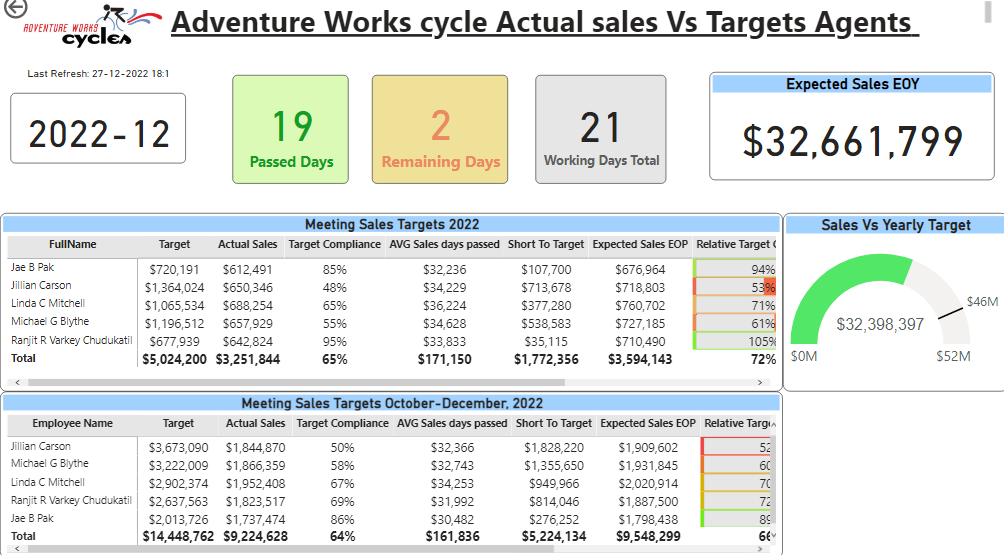

The dashboard page shown, as its layout file describes it:
{"tool":"powerbi","page":{"name":"P1","canvas":[1280,720],"ordinal":0},"visuals":[{"type":"gauge","title":"Sales Vs Yearly Target","fields":{"Y":["FactSalesVsTargets.Total_Actual_Net_Sales"],"MaxValue":["SalesVsTargets.Max_KPI_Sales_Target"],"TargetValue":["SalesVsTargets.Total_Sales_Target"]},"box":[994.3,281.9,285.7,226.7],"z":0},{"type":"card","fields":{"Values":["Dim_Date.PassedWorkingDays"]},"box":[295.5,107,147.3,138.1],"z":1000},{"type":"card","fields":{"Values":["Dim_Date.RemainingWorkingDays"]},"box":[472.7,107,172.7,138.1],"z":2000},{"type":"card","fields":{"Values":["Dim_Date.WorkingDaysCount"]},"box":[679.9,107,165.8,138.1],"z":3000},{"type":"pivotTable","title":"Meeting Sales Targets 2022","fields":{"Rows":["Employee.FullName"],"Values":["FactSalesVsTargets.Total_Sales_Target","FactSalesVsTargets.Total_Actual_Net_Sales","FactSalesVsTargets.Target_Compliance","FactSalesVsTargets.Avg_Sales_In_Slp_PWD","FactSalesVsTargets.Total_Short_To_Target","FactSalesVsTargets.Total_Expected_Sales_EOP","FactSalesVsTargets.Relative_Target_Compliance","FactSalesVsTargets.Required_Daily_Sales_For_Target"]},"box":[0,281.9,994.3,226.7],"z":4000},{"type":"pivotTable","title":"Meeting Sales Targets October-December, 2022","fields":{"Values":["FactSalesVsTargets.Total_Sales_Target","FactSalesVsTargets.Total_Actual_Net_Sales","FactSalesVsTargets.Target_Compliance","FactSalesVsTargets.Avg_Sales_In_Slp_PWD","FactSalesVsTargets.Total_Short_To_Target","FactSalesVsTargets.Total_Expected_Sales_EOP","FactSalesVsTargets.Relative_Target_Compliance","FactSalesVsTargets.Required_Daily_Sales_For_Target"],"Rows":["Employee.FullName"]},"box":[0,508.6,994.3,211.4],"z":5000},{"type":"image","box":[24.8,0,188.6,89.5],"z":7000},{"type":"card","title":"Expected Sales EOY","fields":{"Values":["FactSalesVsTargets.Total_Expected_Sales_EOP"]},"box":[901,102.9,361.9,137.1],"z":7500},{"type":"actionButton","box":[0,0,101,40],"z":8000},{"type":"textbox","box":[211.8,6.9,1052.1,62.2],"z":9000},{"type":"card","fields":{"Values":["Last Refresh Time.Last Refresh Time"]},"box":[24.8,89.5,200,32.4],"z":10000},{"type":"card","fields":{"Values":["Date.YYYY-MM"]},"box":[13.3,129.5,222.9,89.5],"z":11500}]}

Visuals, with their boxes in screenshot pixels (x1, y1, x2, y2), scaled from the page's 1280x720 canvas onto the 1004x555 screenshot:
"Sales Vs Yearly Target" gauge: x1=780, y1=217, x2=1003, y2=392
card - Dim_Date.PassedWorkingDays: x1=232, y1=82, x2=347, y2=189
card - Dim_Date.RemainingWorkingDays: x1=371, y1=82, x2=506, y2=189
card - Dim_Date.WorkingDaysCount: x1=533, y1=82, x2=663, y2=189
"Meeting Sales Targets 2022" pivotTable: x1=0, y1=217, x2=780, y2=392
"Meeting Sales Targets October-December, 2022" pivotTable: x1=0, y1=392, x2=780, y2=554
image: x1=19, y1=0, x2=167, y2=69
"Expected Sales EOY" card: x1=707, y1=79, x2=991, y2=185
actionButton: x1=0, y1=0, x2=79, y2=31
textbox: x1=166, y1=5, x2=991, y2=53
card - Last Refresh Time.Last Refresh Time: x1=19, y1=69, x2=176, y2=94
card - Date.YYYY-MM: x1=10, y1=100, x2=185, y2=169
